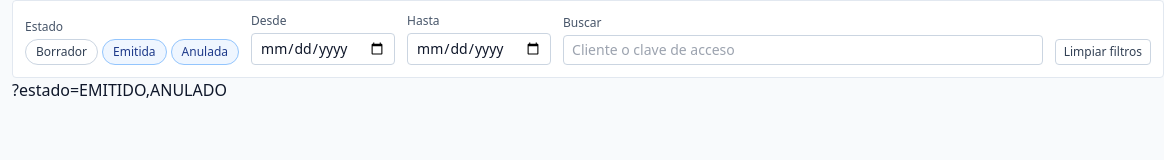
Test: <FiltersBar /> URL state › clicking a selected chip again removes that estado
Click the checkbox with test id "filter-estado-ANULADO".
click(205, 52)  # box top-left (171, 39), bottom-right (239, 65)
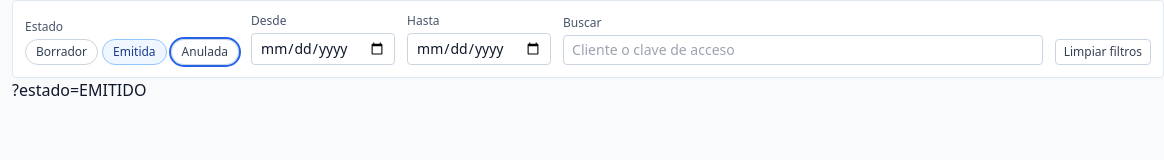
Expected: the text with test id "loc" shows "estado=EMITIDO", top-left (12, 79), bottom-right (146, 101)
Expected: the text with test id "loc" no longer shows "ANULADO"
